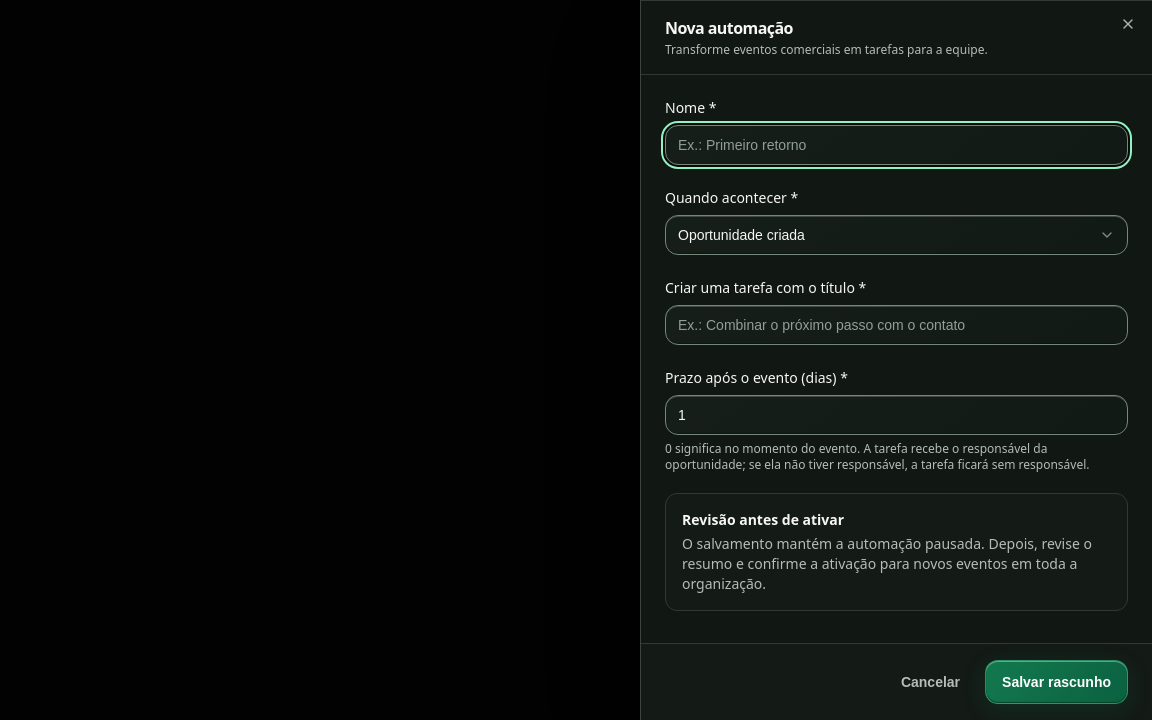
it: recuperação de falha nos formulários de operação › não ativa automação ao salvar rascunho e mantém configuração após falha
Type "Primeiro retorno" into the field labelled "Nome *". click: point(896, 145)
box: [665,125,1128,165]
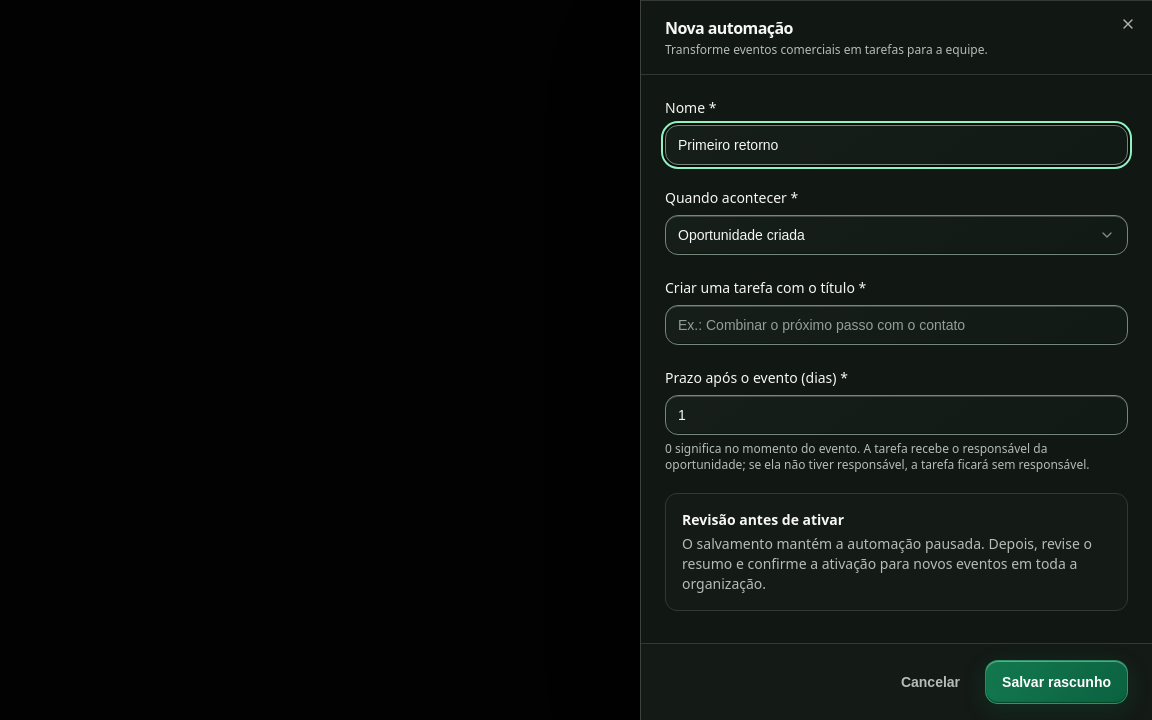
Type "Retornar ao contato" into the field labelled "Criar uma tarefa com o título *". click: point(896, 325)
box: [665,305,1128,345]
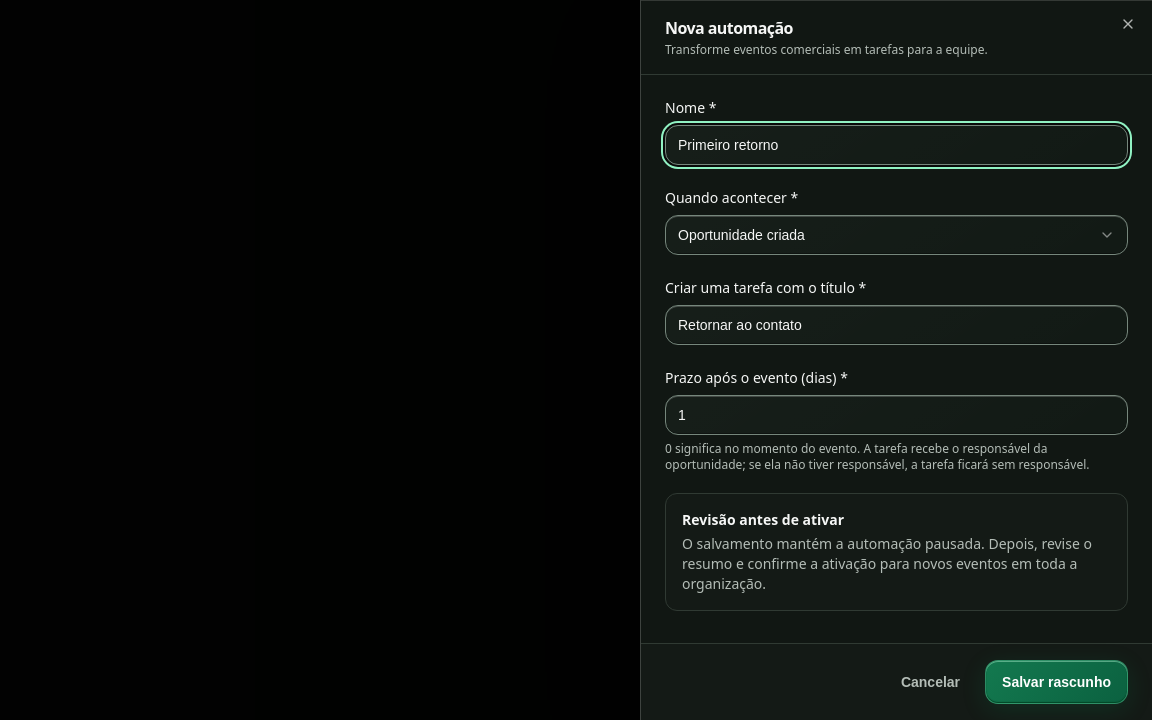
Click the button "Salvar rascunho". click: point(1057, 682)
box: [985,660,1128,704]
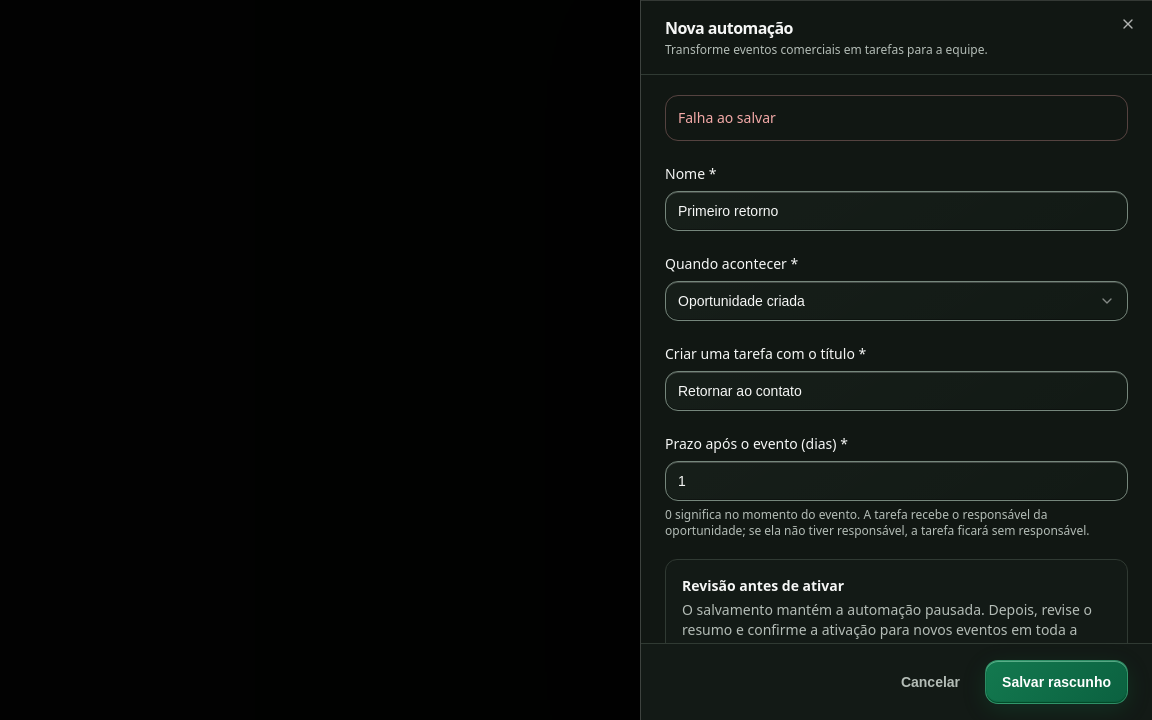
Check: the text "Falha ao salvar" is shown, box [665,95,1128,141]
